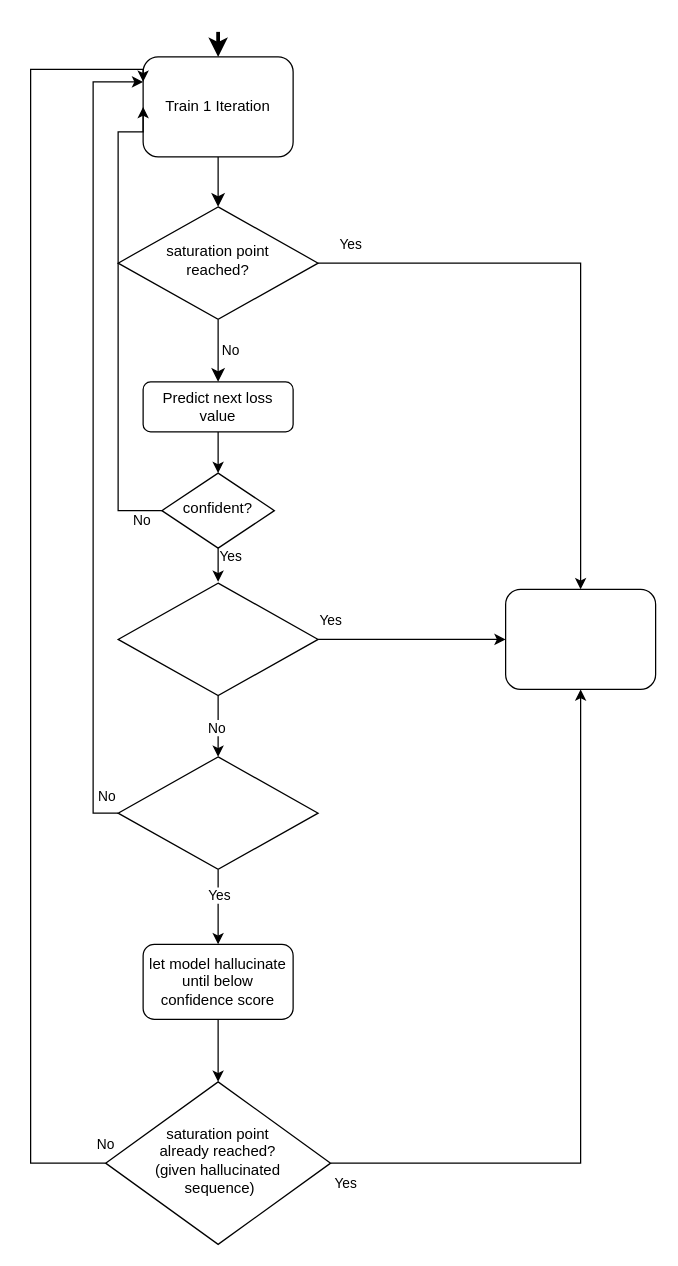
Some shapes in this 678 by 1266 pixel diagram are drawn without their labels. Each missing label, with the box of its shape:
is model confident to hallucinate?: (117, 756, 318, 869)
no more useful work -> hash/switch to other dataset: (504, 588, 656, 689)
saturation point already reached?: (117, 582, 318, 696)
